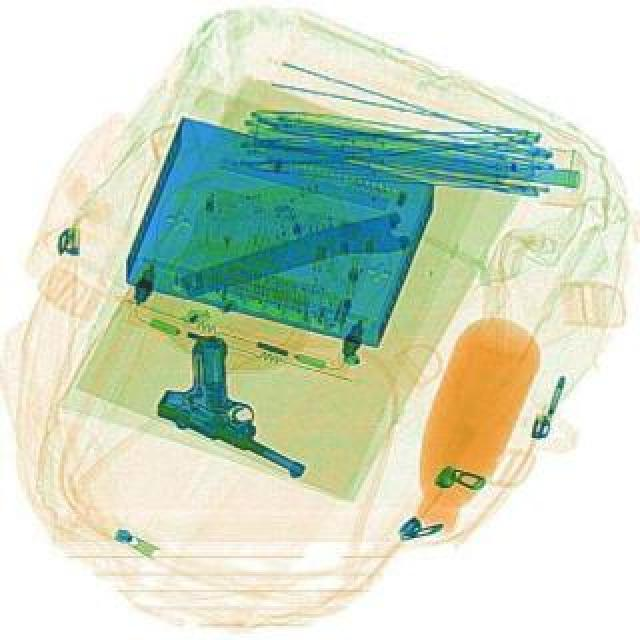gun: (146, 326, 346, 482)
